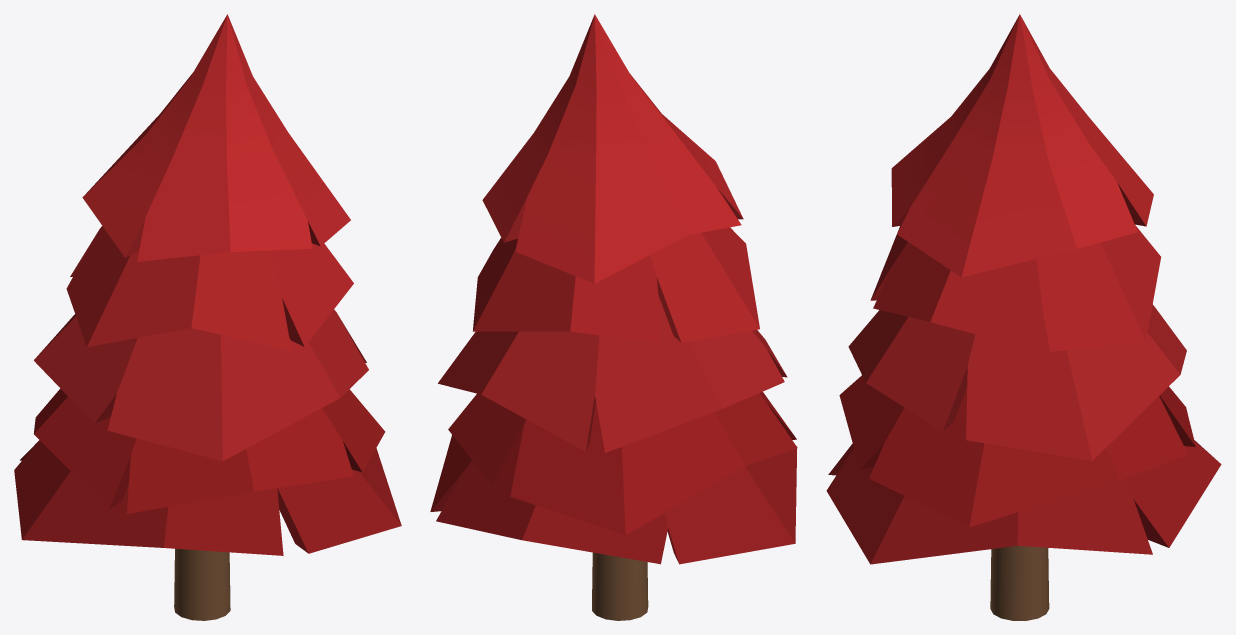
File: Spruce_Red_Thick_1.fbx
3 renders of one model, left to right at view 1: azimuth 30°, elevation 25°; view 2: azimuth 150°, elevation 25°; view 3: azimuth 270°, elevation 25°, orthographic. The views are drawn at different scales.
Visible parts, largest first — view 1: Cylinder.483, Cylinder.482, Cylinder.481, Cylinder.479, Cylinder.480, Cylinder.478; view 2: Cylinder.483, Cylinder.482, Cylinder.480, Cylinder.481, Cylinder.479, Cylinder.478; view 3: Cylinder.483, Cylinder.482, Cylinder.480, Cylinder.481, Cylinder.479, Cylinder.478.
Part boxes in pixels (x1=…): Cylinder.483: x1=82, y1=14, x2=350, y2=261; Cylinder.482: x1=34, y1=309, x2=368, y2=461; Cylinder.481: x1=66, y1=226, x2=353, y2=350; Cylinder.479: x1=14, y1=440, x2=401, y2=555; Cylinder.480: x1=34, y1=388, x2=385, y2=513; Cylinder.478: x1=174, y1=548, x2=230, y2=620; Cylinder.483: x1=482, y1=14, x2=743, y2=283; Cylinder.482: x1=438, y1=294, x2=787, y2=452; Cylinder.480: x1=448, y1=391, x2=797, y2=535; Cylinder.481: x1=472, y1=227, x2=759, y2=343; Cylinder.479: x1=430, y1=435, x2=796, y2=564; Cylinder.478: x1=592, y1=552, x2=648, y2=620; Cylinder.483: x1=891, y1=14, x2=1153, y2=277; Cylinder.482: x1=848, y1=304, x2=1186, y2=460; Cylinder.480: x1=839, y1=375, x2=1195, y2=527; Cylinder.481: x1=870, y1=225, x2=1160, y2=351; Cylinder.479: x1=826, y1=440, x2=1221, y2=564; Cylinder.478: x1=990, y1=545, x2=1049, y2=620.
Size of the model in its own units: 347 by 567 by 334.
